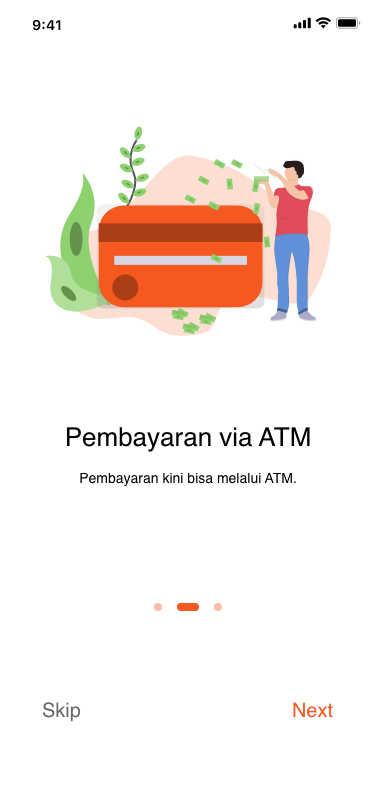Image: (46, 126, 332, 337)
PageIndicator: (154, 602, 223, 612)
Text: (67, 427, 311, 453), (80, 472, 297, 487), (43, 701, 82, 722), (293, 702, 334, 718)
UpperTaskBar: (33, 17, 361, 32)
